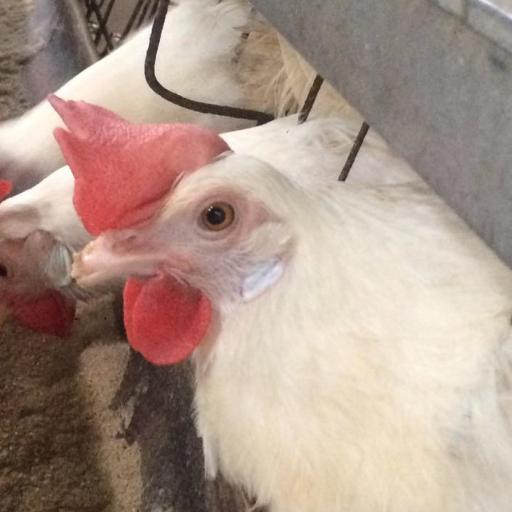healthy: (65, 115, 297, 367)
